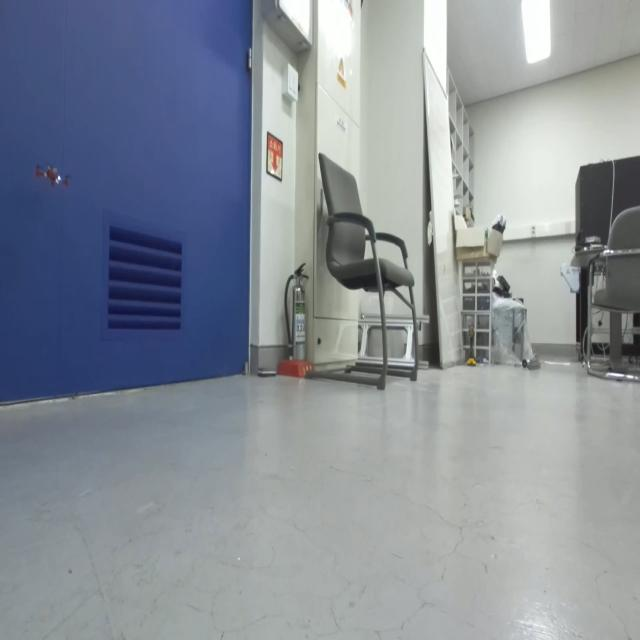crazyflie: (34, 151, 76, 195)
